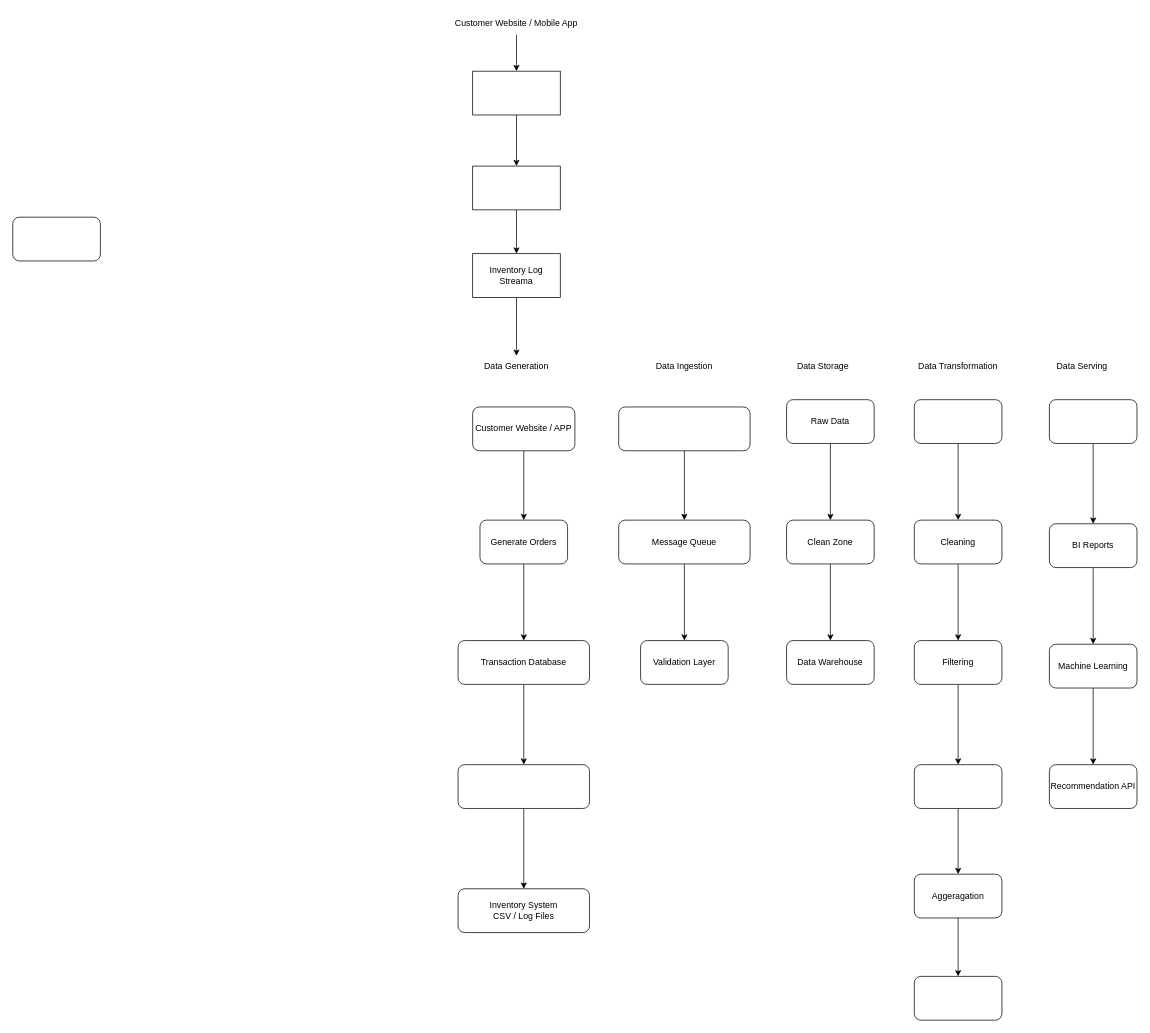
This 1150x1033 diagram has some shape labels left out. Here are the shapes that lost their labels. From the top down, the centre of each, then its label:
At point 516,92: "Transaction DB".
At point 516,187: "ClickStream Join Logs".
At point 684,428: "API Gateway".
At point 958,421: "ELT / ETL Pipeline".
At point 1093,421: "Business Dashboard".
At point 523,786: "ClickStream Events JSON Logs".
At point 958,786: "Deduplication".
At point 958,998: "Feature Engineering".
